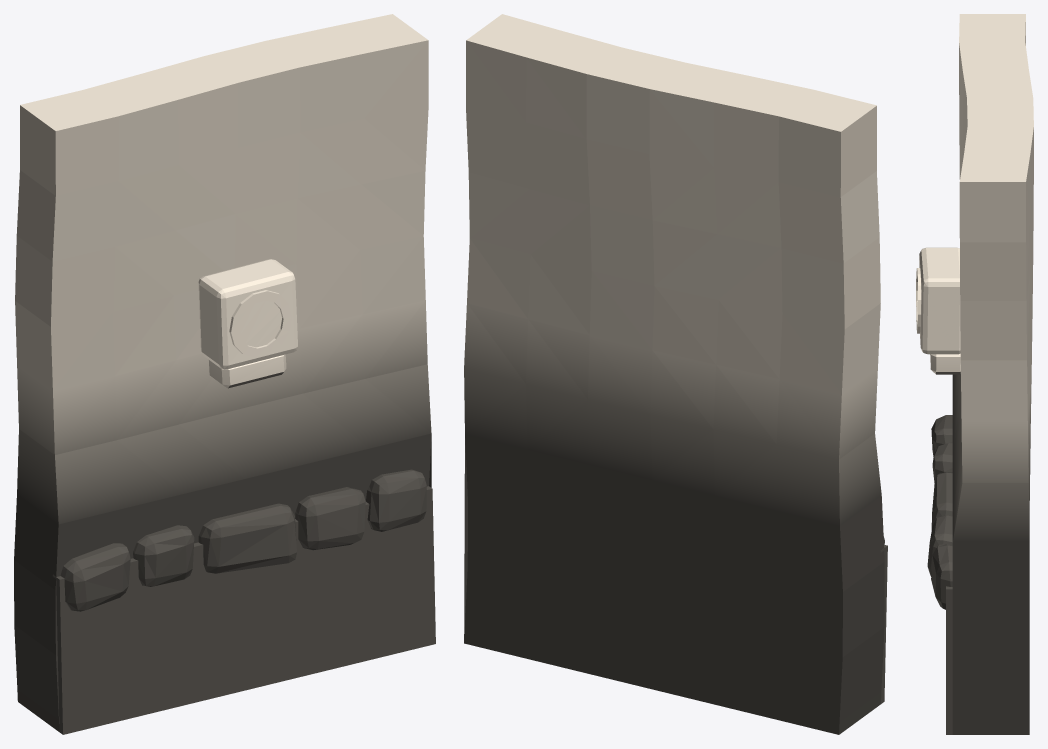
Rendered from SM_VK_Wall_Stone_Axle.fbx.
3 views of the same model, side by side, from view 1: azimuth 30°, elevation 25°; view 2: azimuth 150°, elevation 25°; view 3: azimuth 270°, elevation 25° (orthographic). The views are drawn at different scales.
Visible parts, largest first — view 1: SM_VK_Wall_Stone_Axle.001; view 2: SM_VK_Wall_Stone_Axle.001; view 3: SM_VK_Wall_Stone_Axle.001.
Part boxes in pixels (x1=…): SM_VK_Wall_Stone_Axle.001: x1=14, y1=14, x2=435, y2=734; SM_VK_Wall_Stone_Axle.001: x1=464, y1=14, x2=887, y2=734; SM_VK_Wall_Stone_Axle.001: x1=916, y1=14, x2=1033, y2=734.
Size of the model in its own units: 3.04 by 4.6 by 0.8895.
